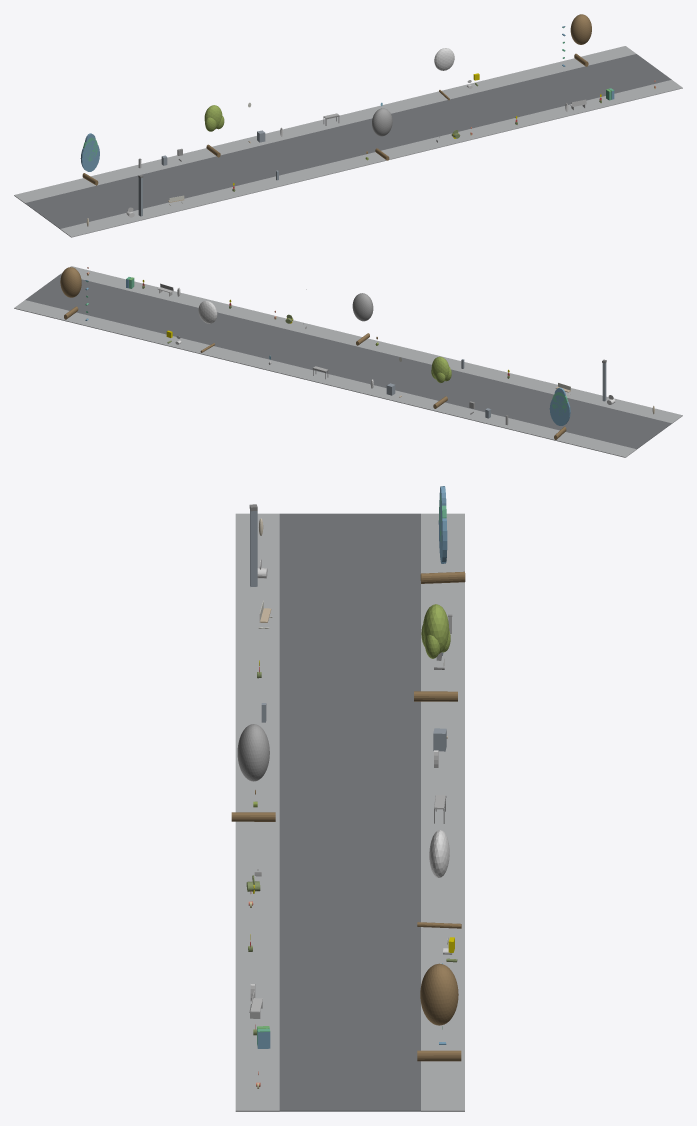
3 renders of one model, top to bottom at view 1: azimuth 30°, elevation 25°; view 2: azimuth 150°, elevation 25°; view 3: azimuth 270°, elevation 25°, orthographic. The views are drawn at different scales.
Visible parts, largest first — view 1: road_slab, sidewalk_left, sidewalk_right, inst_0012, inst_0016, inst_0014, inst_0013, inst_0015; view 2: road_slab, sidewalk_right, sidewalk_left, inst_0012, inst_0016, inst_0014, inst_0013, inst_0015; view 3: road_slab, sidewalk_left, sidewalk_right, inst_0016, inst_0014, inst_0013, inst_0012, inst_0015.
Boxes of the visible parts, <box> form: road_slab: <box>25,54,671,228</box>; sidewalk_left: <box>60,80,682,237</box>; sidewalk_right: <box>14,46,636,203</box>; inst_0012: <box>80,133,99,185</box>; inst_0016: <box>570,14,591,66</box>; inst_0014: <box>372,108,392,160</box>; inst_0013: <box>204,105,224,157</box>; inst_0015: <box>434,48,454,100</box>; road_slab: <box>25,274,671,449</box>; sidewalk_right: <box>14,300,636,457</box>; sidewalk_left: <box>60,266,682,423</box>; inst_0012: <box>549,387,570,439</box>; inst_0016: <box>60,267,81,319</box>; inst_0014: <box>352,293,373,345</box>; inst_0013: <box>431,356,451,408</box>; inst_0015: <box>198,300,217,352</box>; road_slab: <box>279,513,420,1111</box>; sidewalk_left: <box>235,513,279,1111</box>; sidewalk_right: <box>421,513,464,1111</box>; inst_0016: <box>417,963,461,1061</box>; inst_0014: <box>231,724,275,821</box>; inst_0013: <box>414,604,457,701</box>; inst_0012: <box>420,486,465,583</box>; inst_0015: <box>417,830,461,928</box>.
Bounding box in the file's own units: 80 × 6.08 × 13.24.
